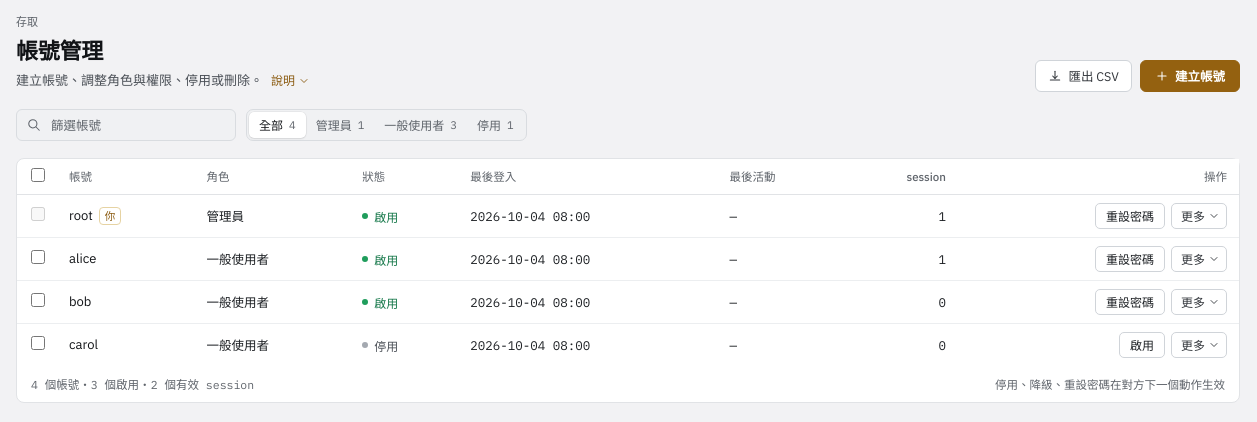
Test: 批次勾選：自己那列不可勾；全選只選別人，批次列依狀態分別計數，數量為 0 就停用
The width and height of the screenshot is (1257, 422).
Click the checkbox named "全選": (38, 175) [31, 168, 45, 182]
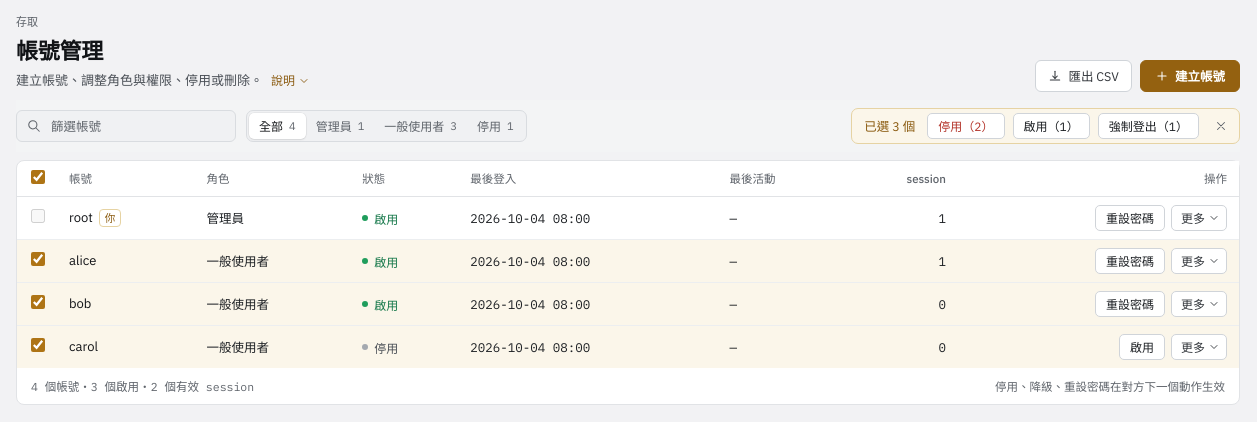
Check: the text "已選 3 個" is shown, box [864, 116, 915, 135]
Check: the button "停用（2）" is enabled, box [927, 113, 1005, 139]
Check: the button "啟用（1）" is enabled, box [1012, 113, 1090, 139]
Click the checkbox named "選取「carol」": (38, 345) [31, 338, 45, 352]
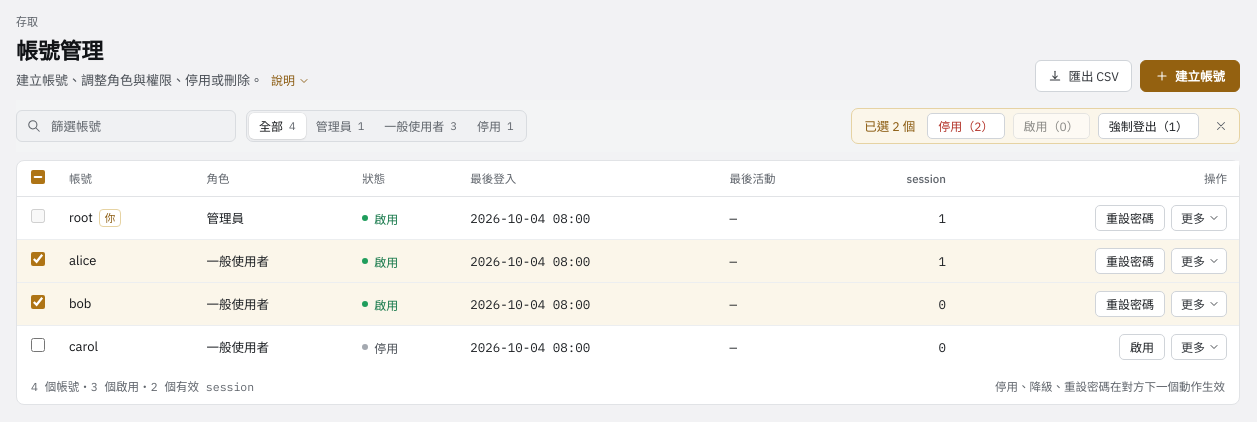
Check: the button "啟用（0）" is disabled, box [1012, 113, 1090, 139]
Check: the text "已選 2 個" is shown, box [864, 116, 915, 135]
Click the button named "清除選取": (1221, 126) [1207, 112, 1235, 140]
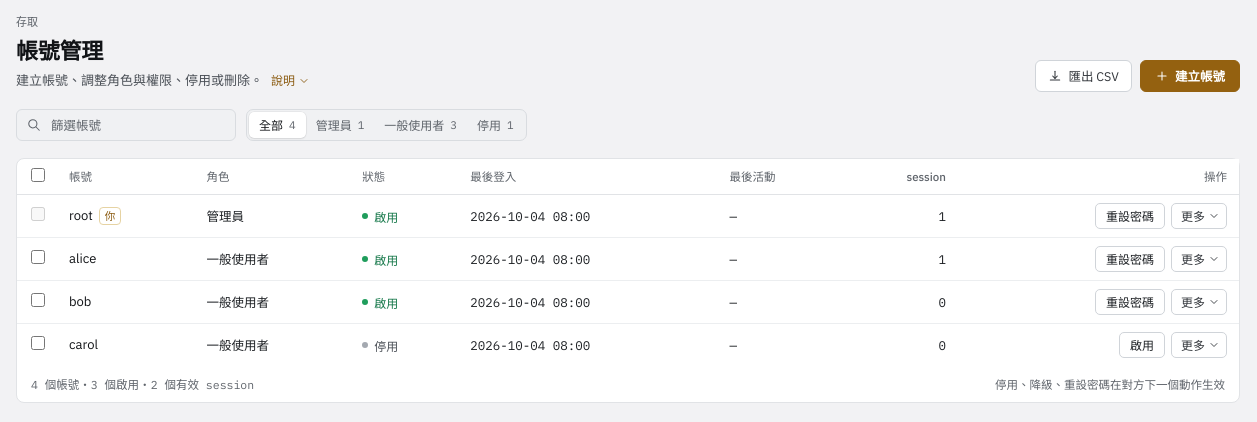
Check: the element "批次操作" is gone
